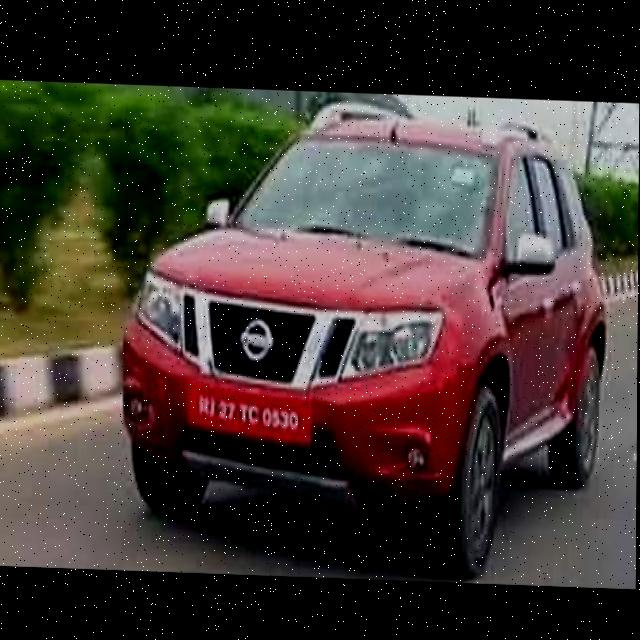plate: (187, 383, 312, 446)
